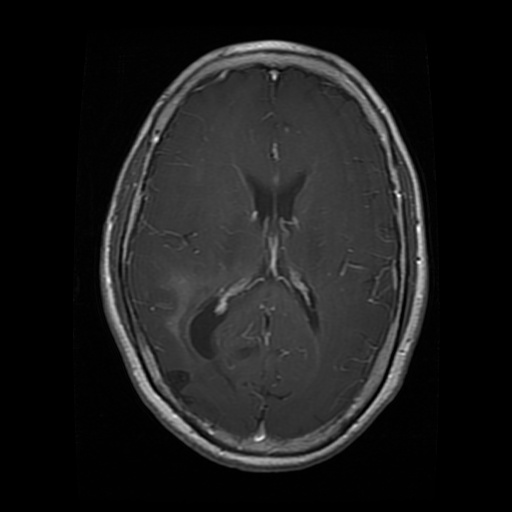glioma: (161, 265, 249, 365)
